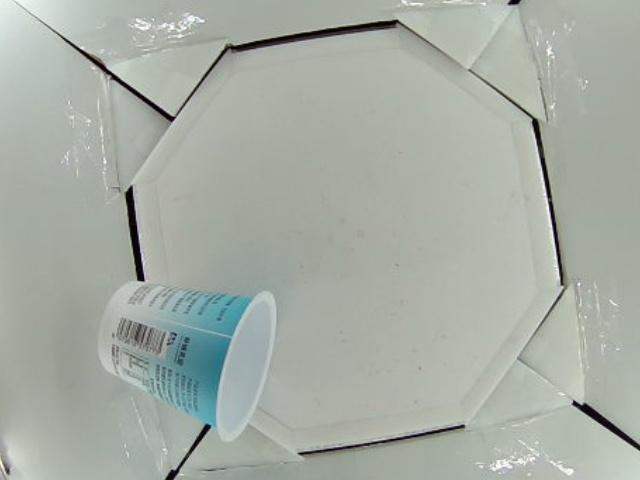Cup: (94, 278, 275, 443)
